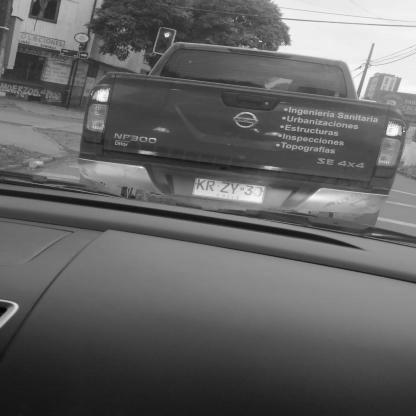Patente: (190, 176, 269, 207)
